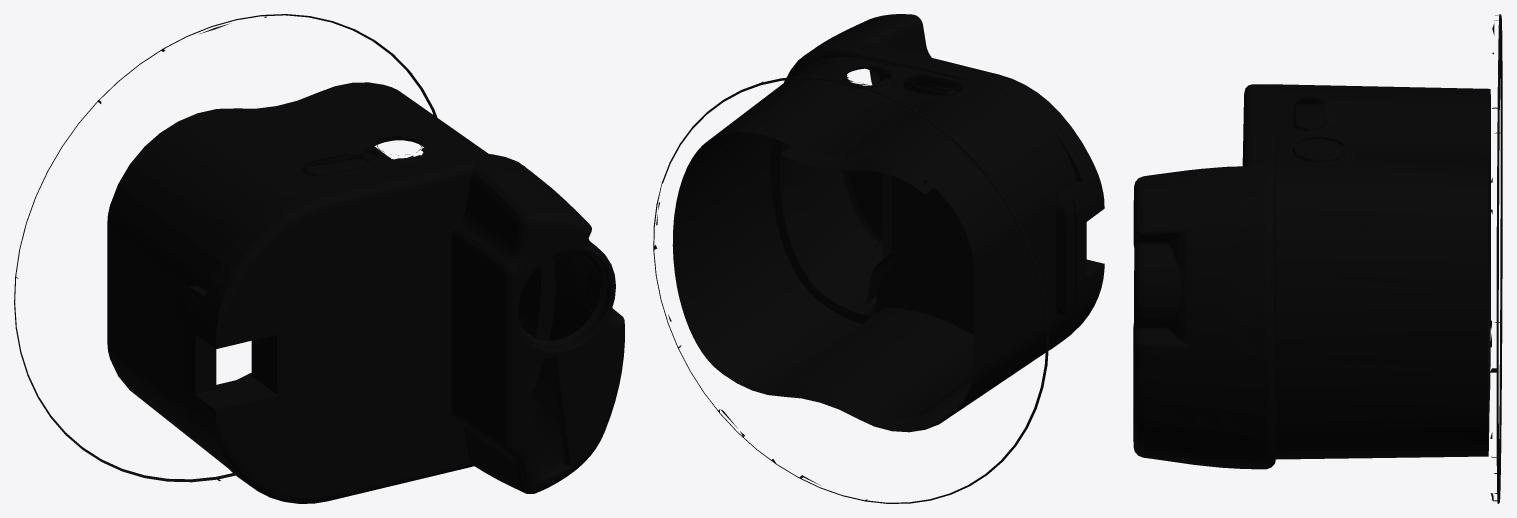
3 views of the same model, side by side, from view 1: azimuth 30°, elevation 25°; view 2: azimuth 150°, elevation 25°; view 3: azimuth 270°, elevation 25° (orthographic). The views are drawn at different scales.
Size of the model in its own units: 0.1129 by 0.1129 by 0.0851.
